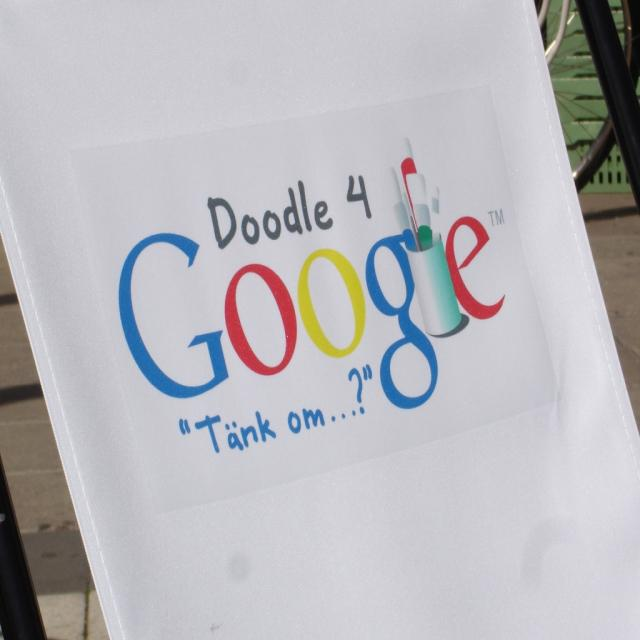google: (112, 133, 520, 418)
